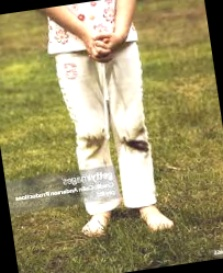earth: (120, 128, 149, 156), (82, 131, 108, 157)
